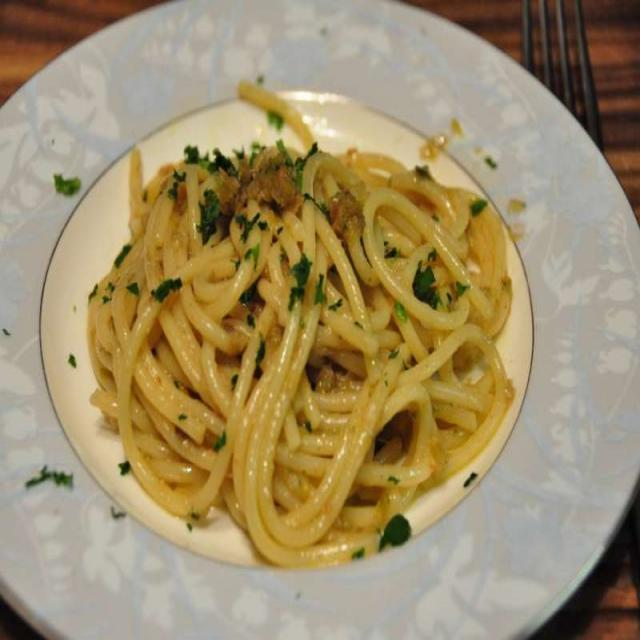Oil pasta: (118, 132, 554, 568)
